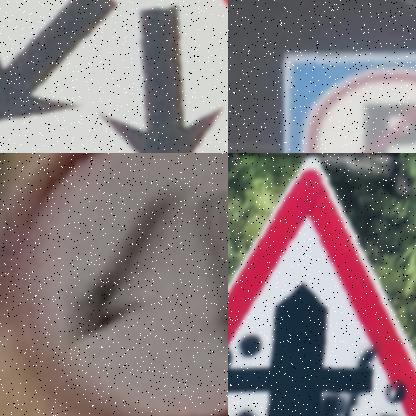Cross Roads: (228, 157, 416, 416)
No Parking: (284, 52, 416, 153)
Road Divides: (0, 153, 228, 416), (0, 0, 228, 153)
